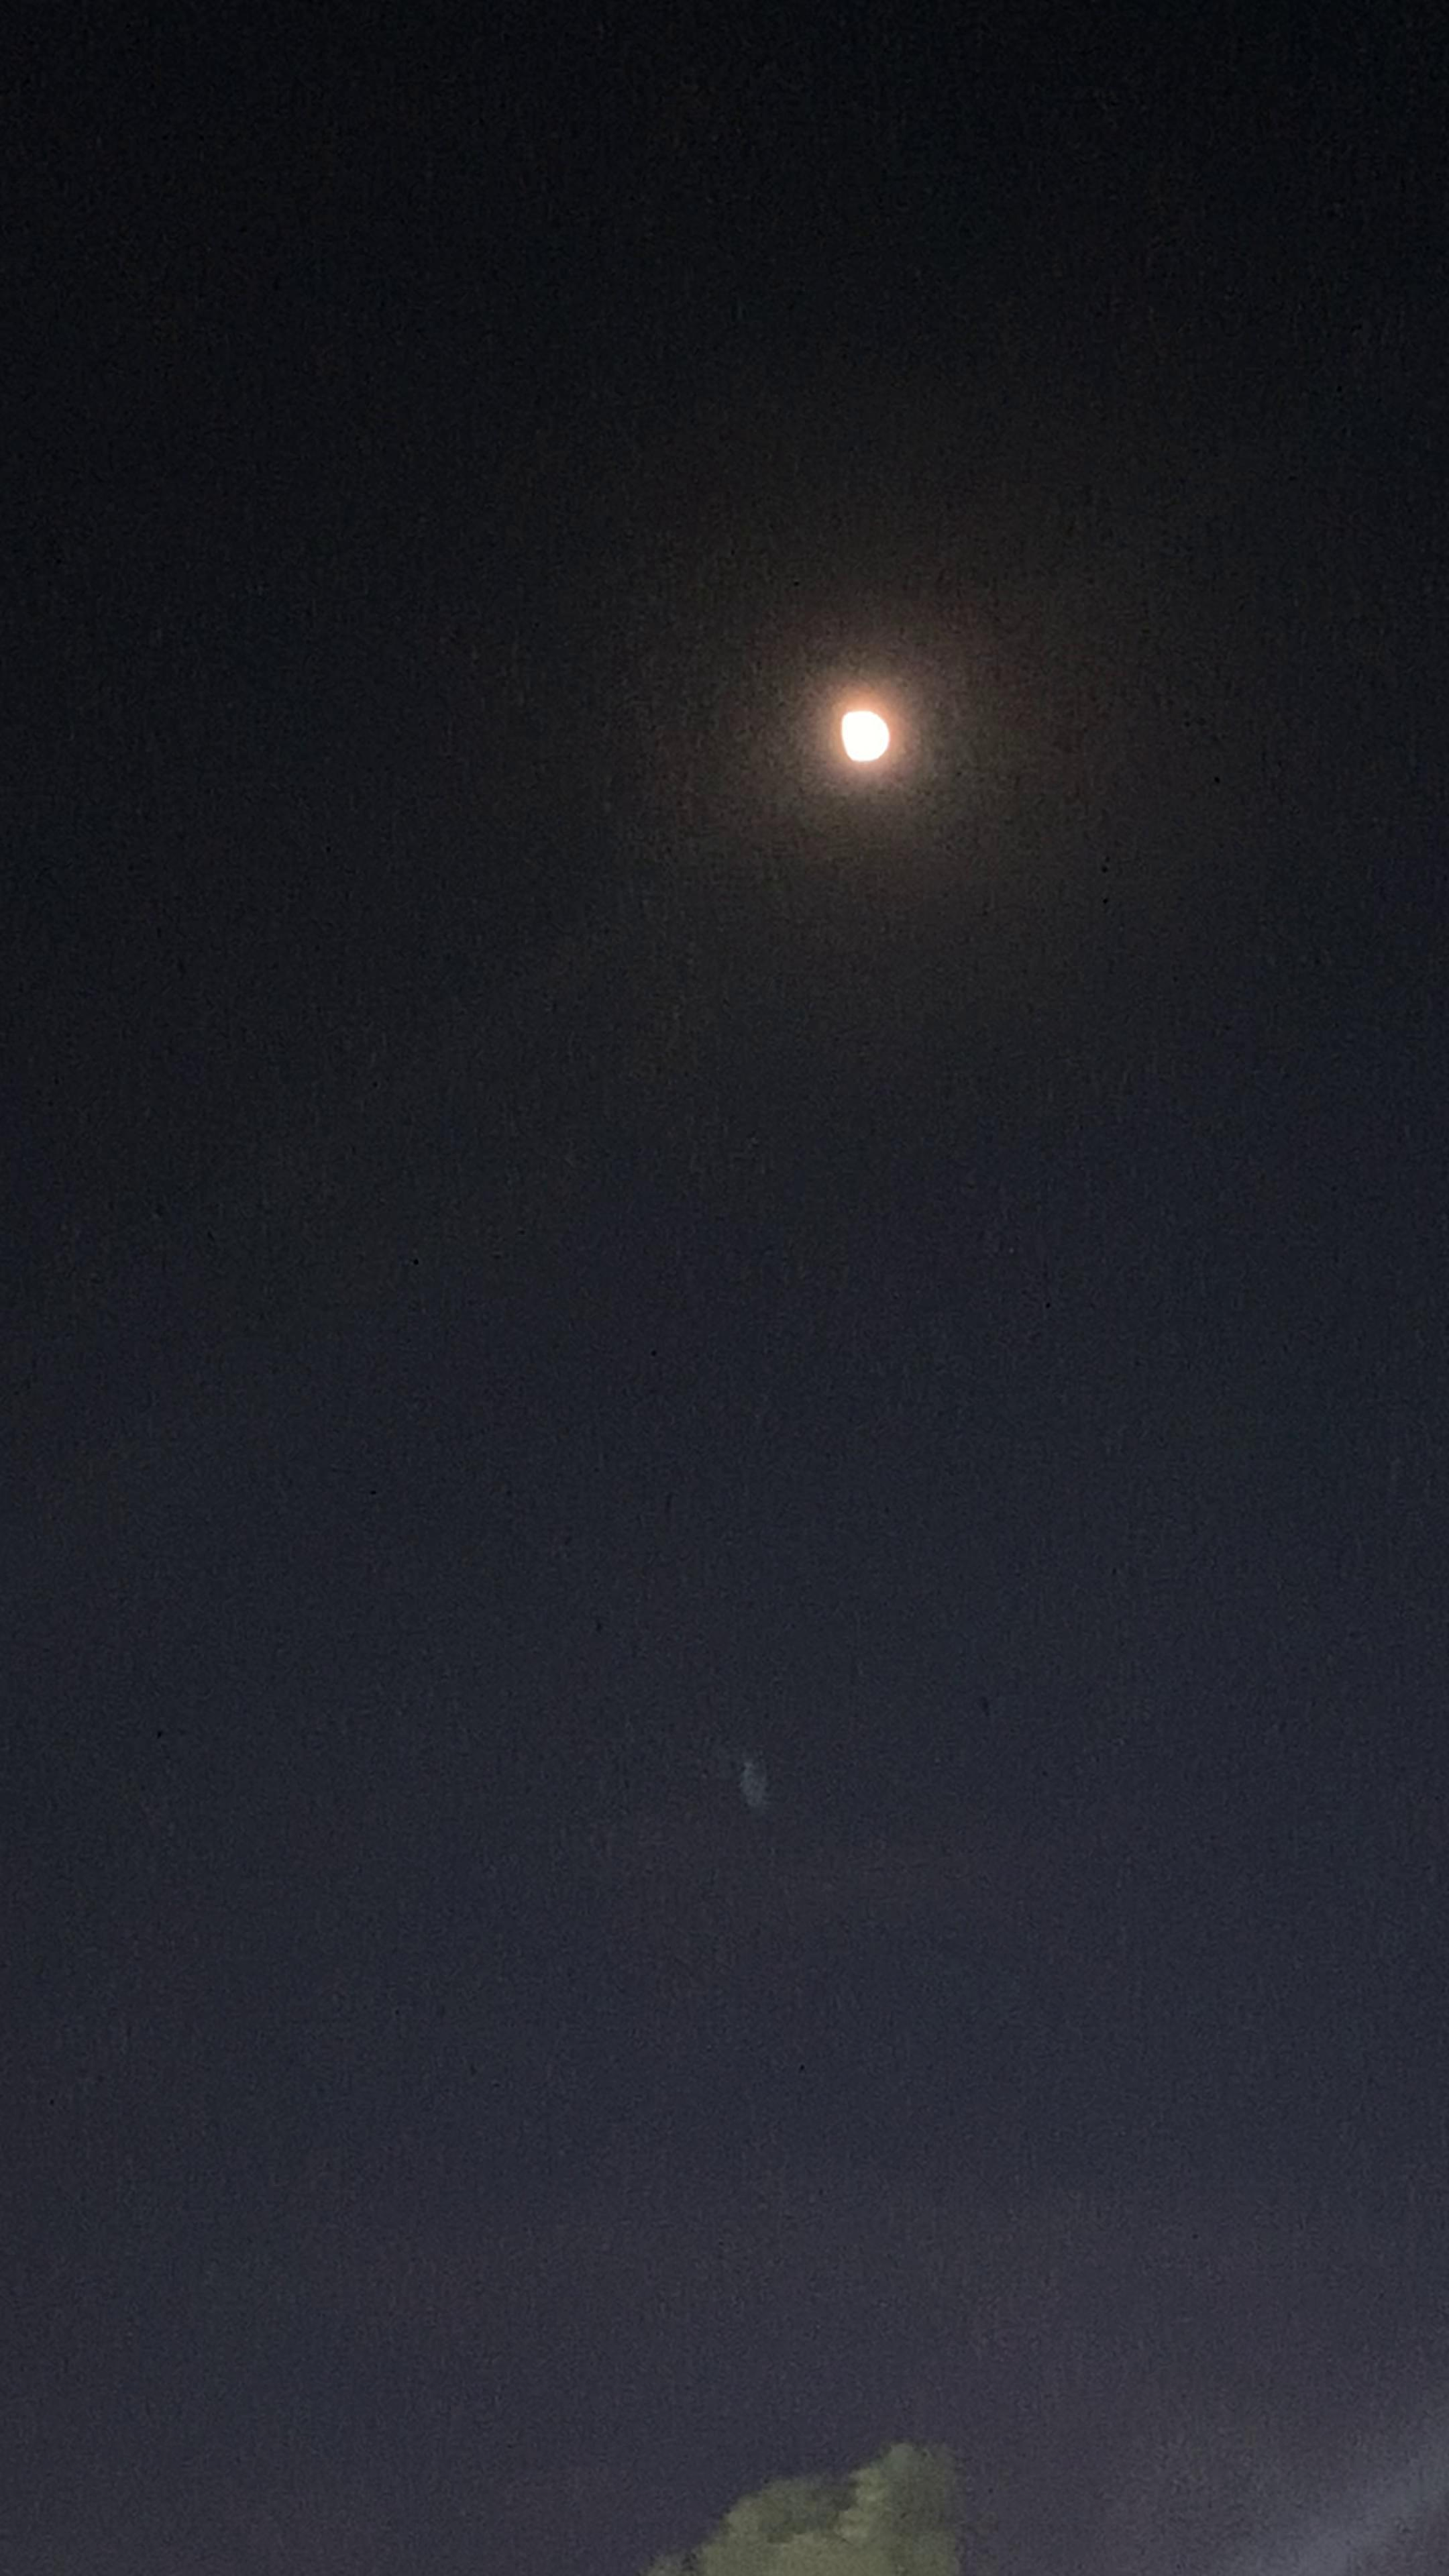moon: (782, 653, 943, 798)
